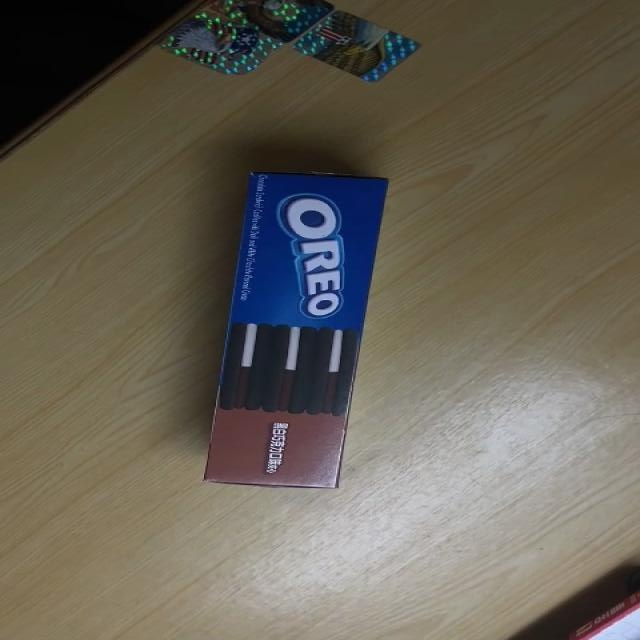Oreo: (199, 168, 391, 492)
